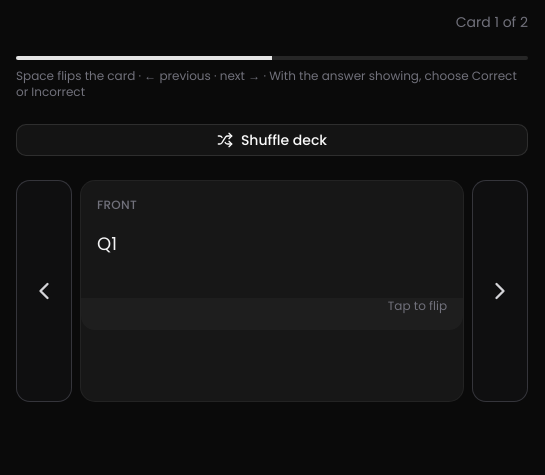
Test: StudySession › flips the card when the main area is clicked
Click the text "Q1" at (107, 244), box [97,231,117,256]
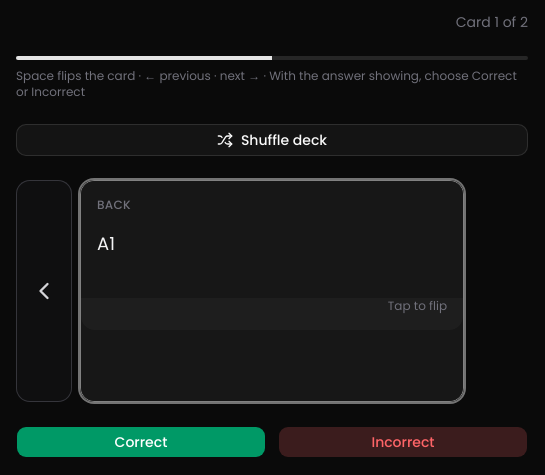
Now the text "A1" is shown, box [97,231,115,256]
Now the button "Correct" is shown, box [16,426,266,458]
